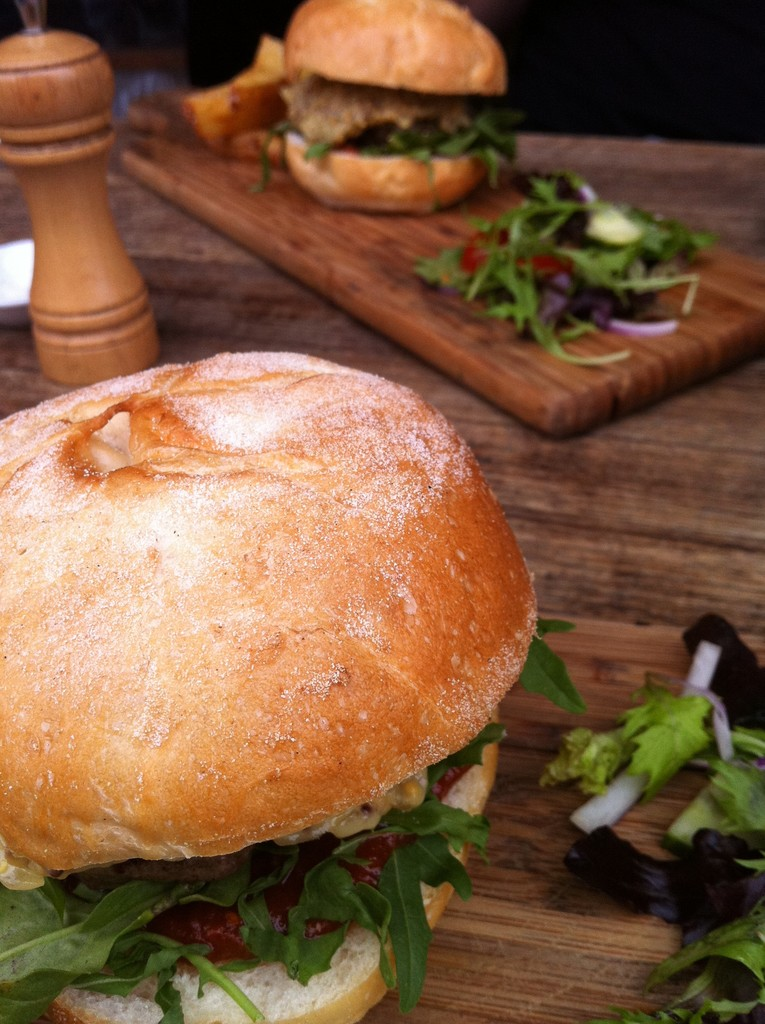Hamburger: (0, 353, 581, 1023), (252, 0, 525, 224)
